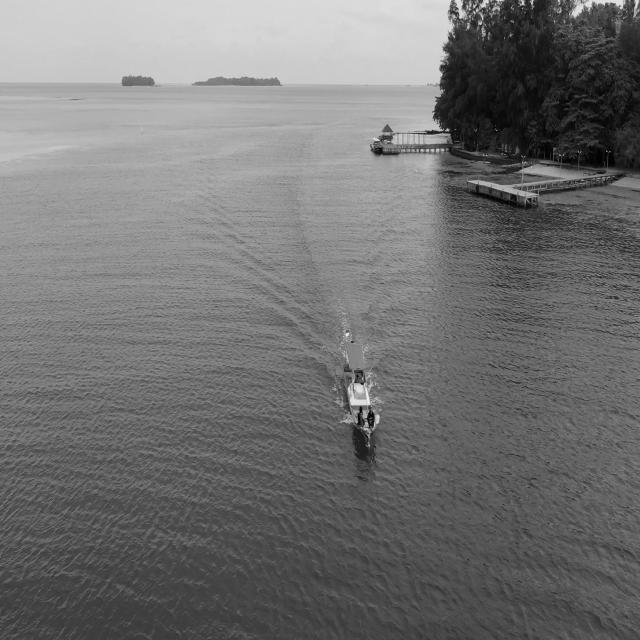ship: (331, 322, 388, 452)
